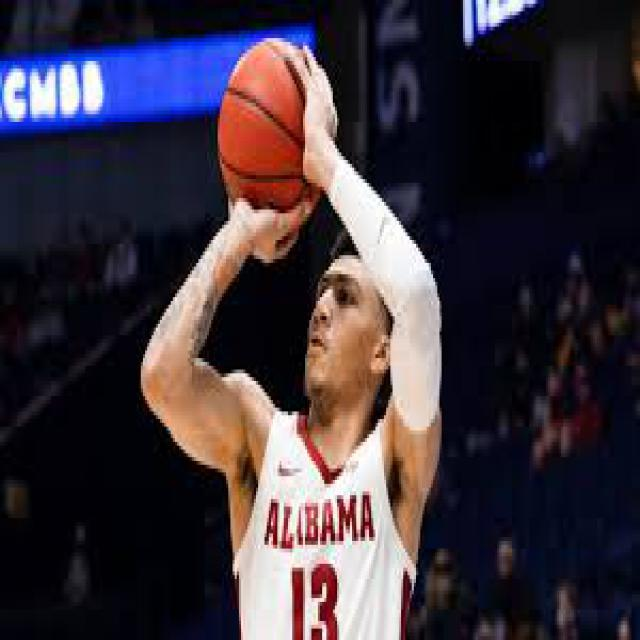basketball: (220, 38, 326, 217)
